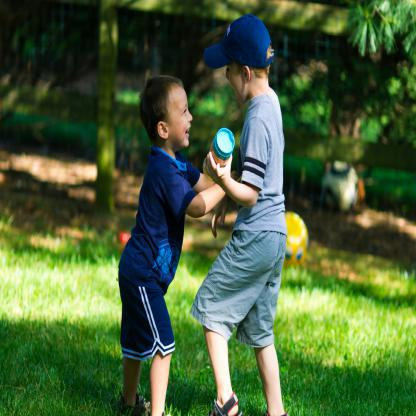Ball: (283, 211, 308, 267)
